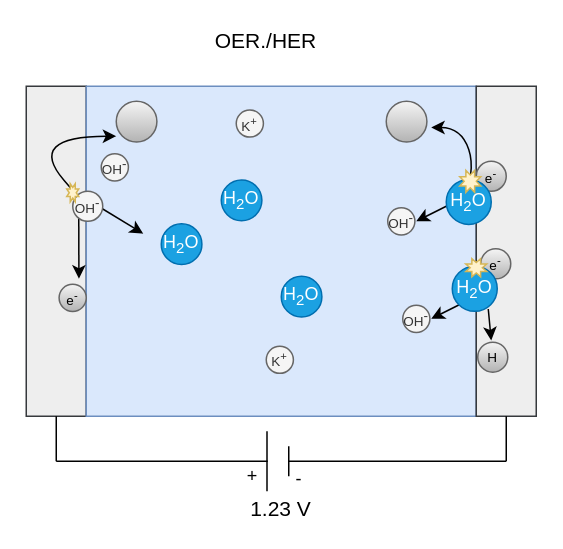
This 563x549 diagram has some shape labels left out. The shapes that lost their labels are listed below. From the top down, each one's centre as x and y in pixels, then its label:
At (x=136, y=121): "O 2".
At (x=406, y=121): "H 2".
